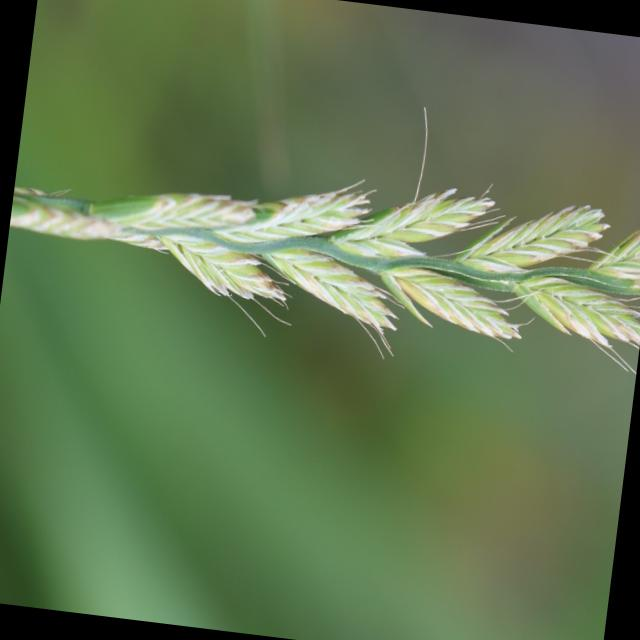Lolium: (0, 56, 640, 391)
